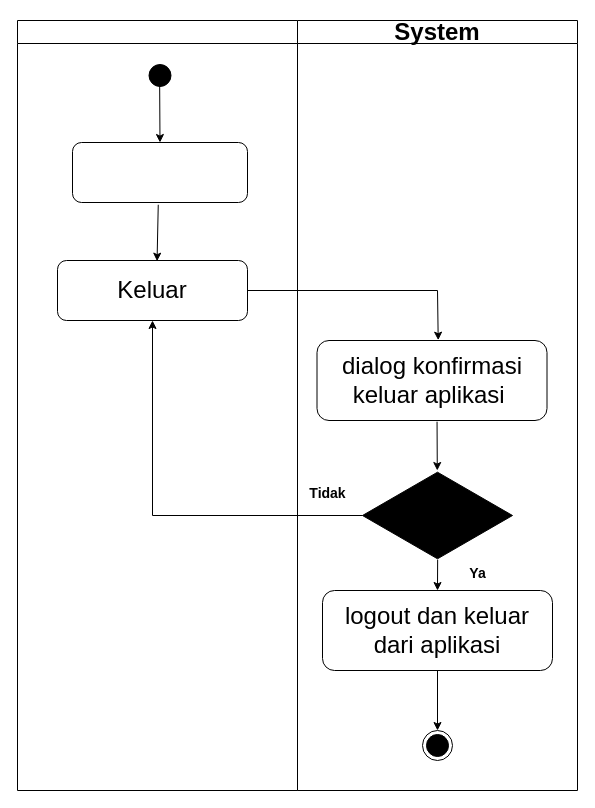
The diagram is 595 pixels wide and 808 high, and some of its shapes have lost their labels. Each missing label, with the box of its shape:
Navigasi profile: (72, 142, 248, 202)
user: (16, 20, 298, 790)
